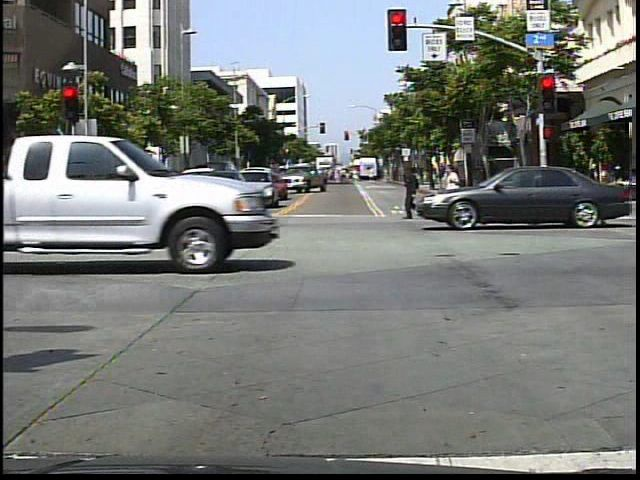person: (399, 161, 433, 225), (441, 159, 474, 223), (154, 166, 187, 225)
